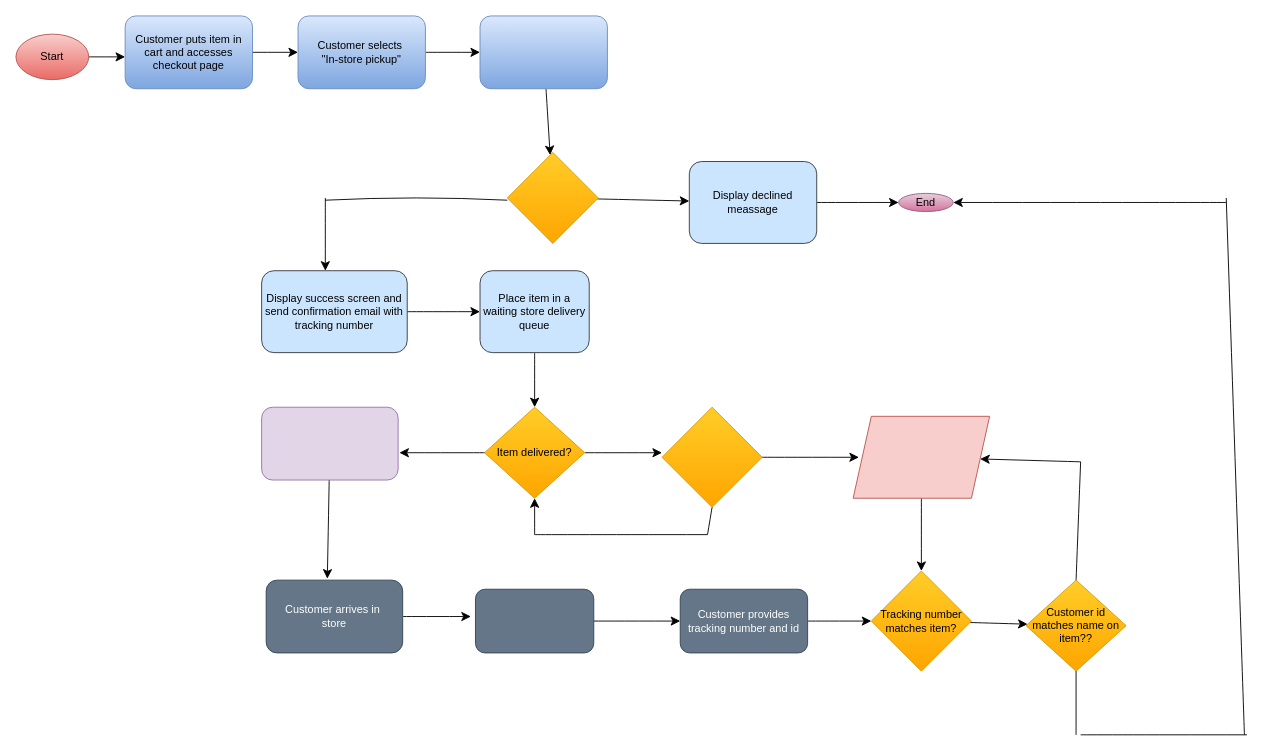
Some shapes in this 1264 by 752 pixel diagram are drawn without their labels. The shapes that lost their labels are listed below. From the top down, each one's box as (x1, y1, x2, y2) in pixels, then its label:
(479, 15, 607, 89): Customer makes online purchase
(506, 152, 598, 243): Authorized
(261, 406, 398, 480): Send delivery notification email and text message to customer
(661, 406, 762, 507): Is expected delivery date passed?
(852, 415, 990, 498): Delivery Management Process
(475, 588, 594, 653): Customer joins customer service line
